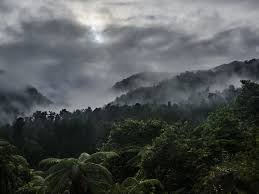forest: (11, 97, 256, 193)
mountain: (11, 85, 257, 194)
sky: (2, 2, 256, 102)
